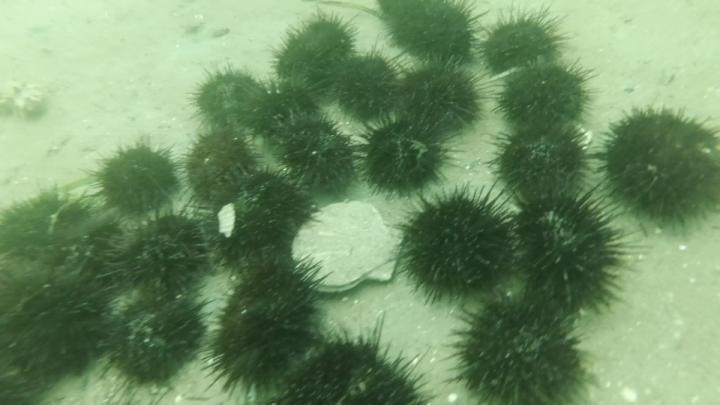echinus: (197, 250, 332, 400), (504, 183, 637, 320), (444, 286, 596, 405), (592, 102, 720, 233), (392, 183, 524, 308), (1, 262, 121, 381), (275, 320, 438, 404), (194, 163, 316, 274), (94, 287, 210, 394), (98, 203, 211, 306), (1, 183, 113, 280), (351, 107, 459, 201), (487, 119, 596, 208), (492, 56, 598, 135), (267, 9, 361, 94), (393, 55, 490, 136), (272, 111, 361, 198), (89, 137, 182, 220), (376, 1, 486, 69), (474, 5, 572, 78), (179, 123, 261, 206), (326, 47, 408, 124), (235, 74, 326, 143), (48, 212, 127, 289), (187, 61, 268, 132)
holothurian: (1, 75, 51, 123)
scallop: (285, 198, 408, 299)
